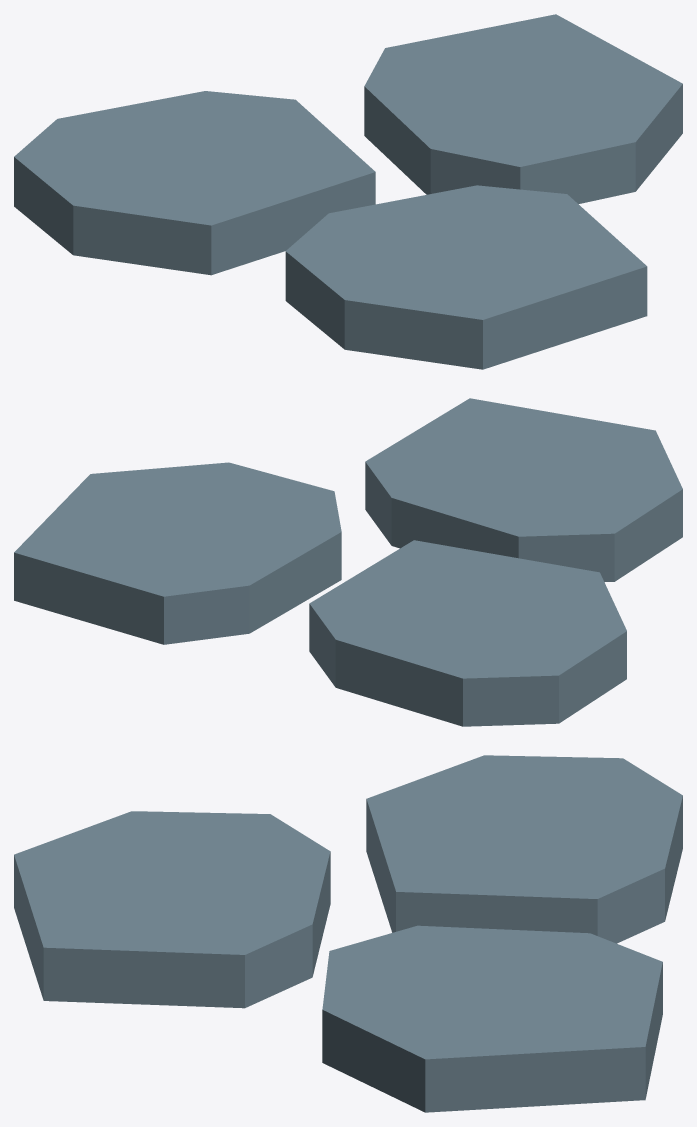
The model's file is Broken Floor (3).obj.
3 renders of one model, top to bottom at view 1: azimuth 30°, elevation 25°; view 2: azimuth 150°, elevation 25°; view 3: azimuth 270°, elevation 25°, orthographic. The views are drawn at different scales.
Parts seen in each view (by area): view 1: group1463012485, group728029235, group187402642; view 2: group187402642, group728029235, group1463012485; view 3: group187402642, group1463012485, group728029235.
Boxes of the visible parts, x1=… form: group1463012485: x1=285, y1=185, x2=647, y2=369; group728029235: x1=14, y1=91, x2=375, y2=275; group187402642: x1=364, y1=14, x2=682, y2=204; group187402642: x1=14, y1=462, x2=341, y2=644; group728029235: x1=309, y1=540, x2=626, y2=726; group1463012485: x1=365, y1=398, x2=682, y2=582; group187402642: x1=322, y1=925, x2=662, y2=1112; group1463012485: x1=14, y1=811, x2=330, y2=1008; group728029235: x1=366, y1=755, x2=682, y2=943.
Size of the model in its own units: 0.245 by 0.02 by 0.2277.
